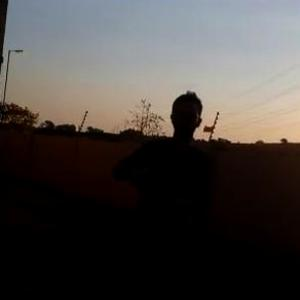follow: (109, 85, 221, 299)
